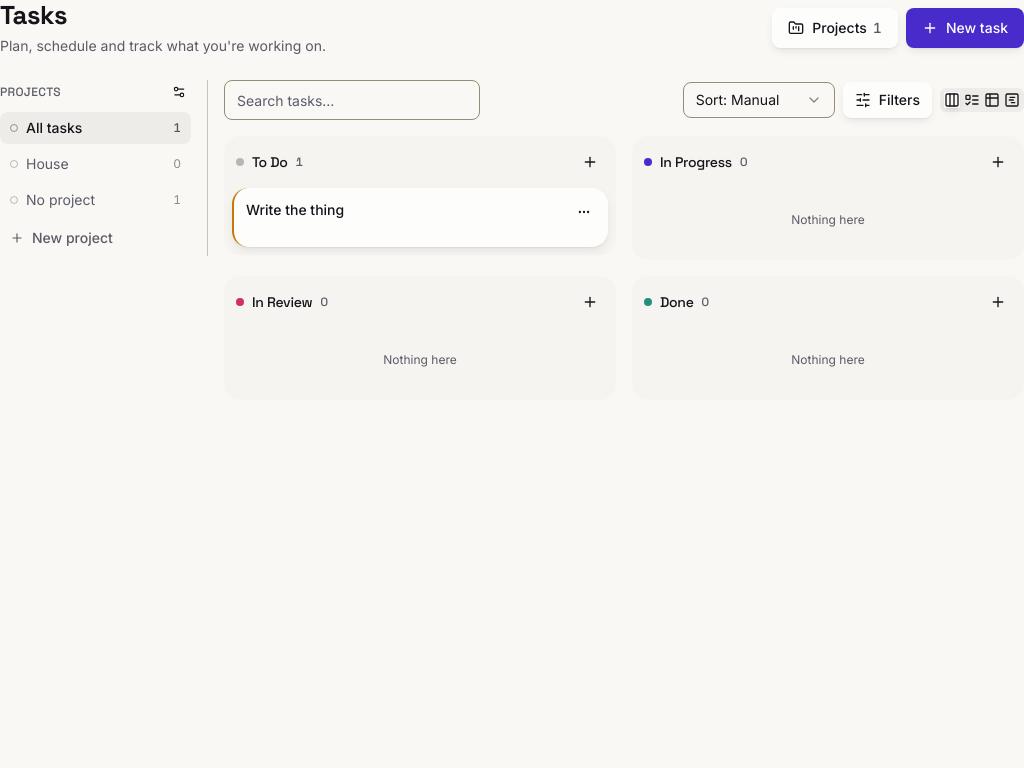
Test: TasksPage › offers every project when choosing one for a task
Click the button "New task" at (965, 28), box x1=906 y1=8 x2=1023 y2=48
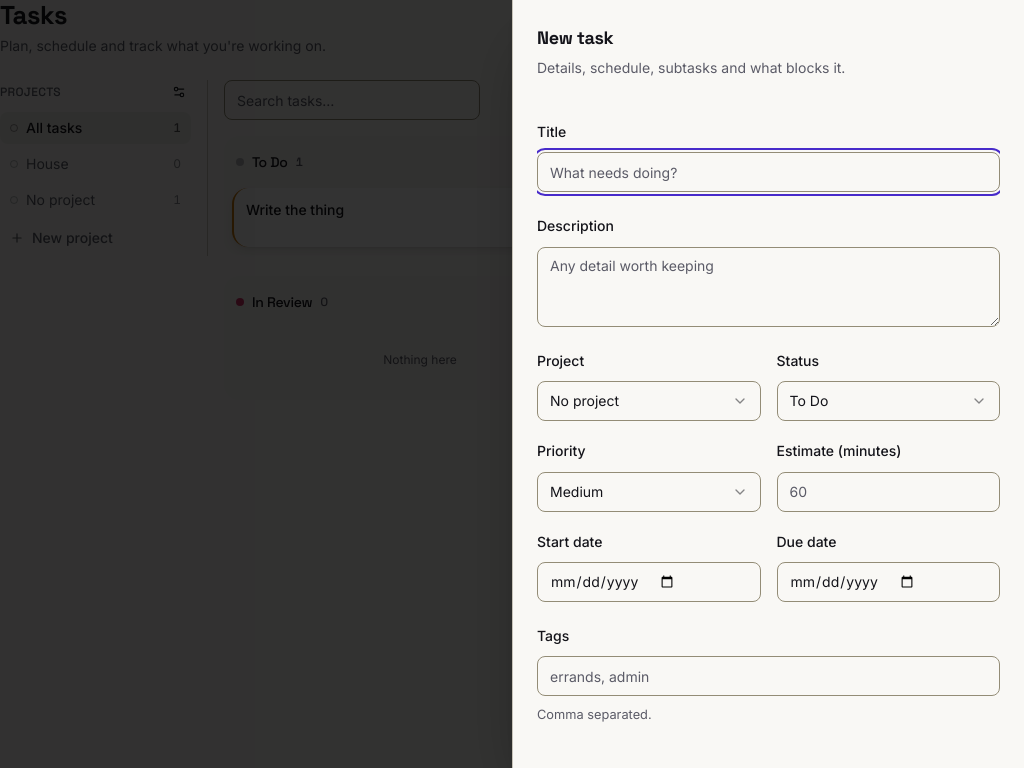
Check: the dropdown labelled "No project" is shown, box x1=537 y1=381 x2=760 y2=421
